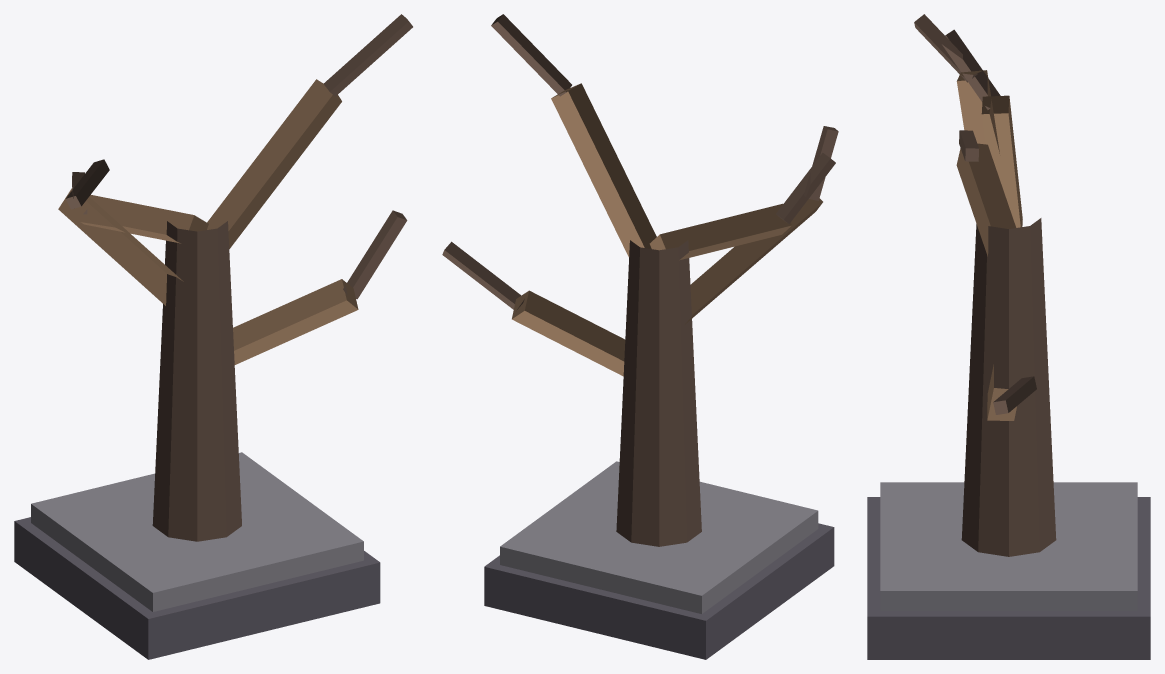
File: dead_tree.glb
The picture shows the model from 3 angles, left to right: view 1: azimuth 30°, elevation 25°; view 2: azimuth 150°, elevation 25°; view 3: azimuth 270°, elevation 25°; orthographic projection. The views are drawn at different scales.
Visible parts, largest first — view 1: Dead Tree; view 2: Dead Tree; view 3: Dead Tree.
Part boxes in pixels (x1,y1,x2,y2): Dead Tree: (14, 14, 412, 659); Dead Tree: (442, 14, 838, 659); Dead Tree: (867, 14, 1150, 659).
Bounding box in the file's own units: 3.05 × 4.19 × 1.9.
